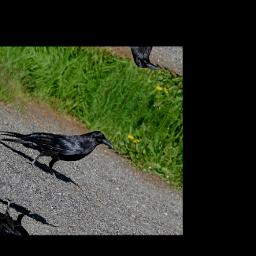Crow: (0, 90, 118, 196)
